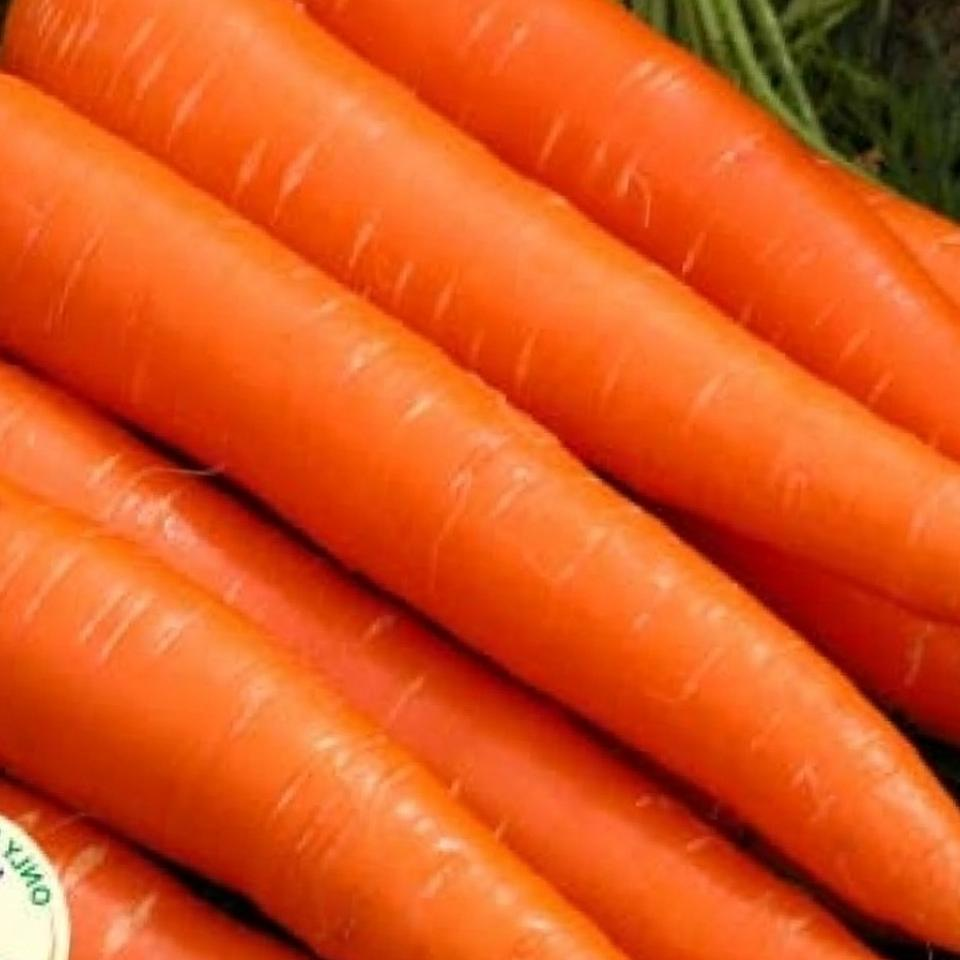carrot: (21, 17, 960, 868)
